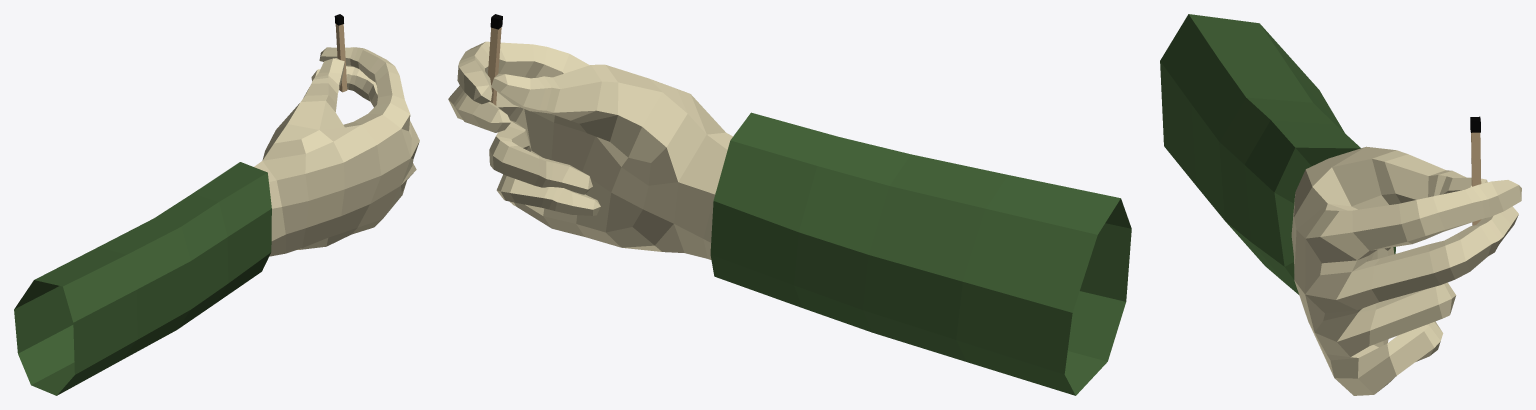
Rendered from EquipedLighter.fbx.
The picture shows the model from 3 angles, left to right: view 1: azimuth 30°, elevation 25°; view 2: azimuth 150°, elevation 25°; view 3: azimuth 270°, elevation 25°; orthographic projection. The views are drawn at different scales.
Visible parts, largest first — view 1: polySurface4; view 2: polySurface4; view 3: polySurface4.
Part boxes in pixels (left/top/right/bottom): polySurface4: left=14, top=14, right=419, bottom=395; polySurface4: left=448, top=14, right=1131, bottom=395; polySurface4: left=1160, top=14, right=1521, bottom=395.
Size of the model in its own units: 1.48 by 0.7971 by 0.7191.
